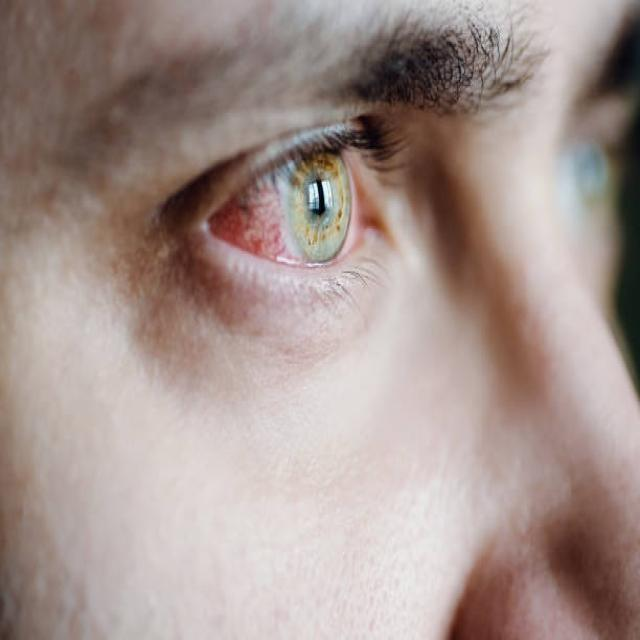Conjunctivitis: (208, 166, 368, 274)
